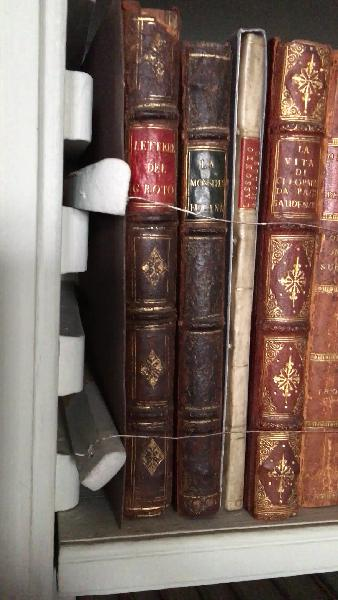Aa6-1: (115, 4, 185, 523)
Aa6-2: (174, 26, 234, 525)
Aa6-3: (227, 14, 263, 524)
Aa6-4: (251, 33, 330, 520)
